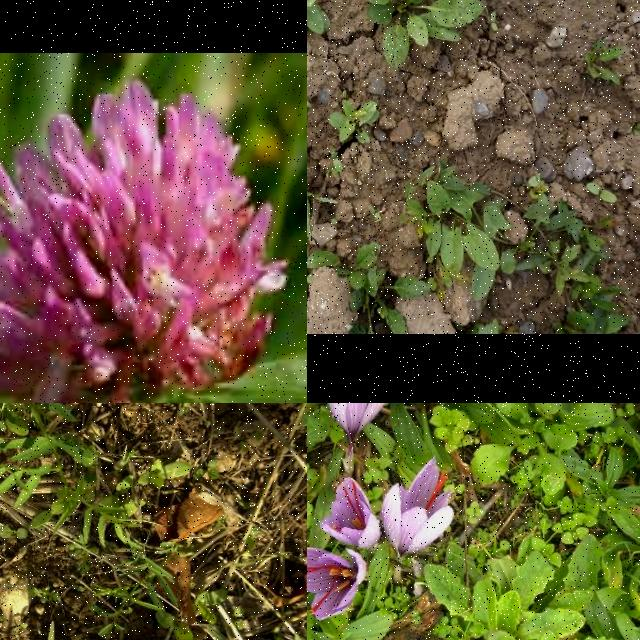flower: (381, 458, 455, 560), (307, 547, 368, 621), (321, 476, 381, 550), (326, 403, 396, 438)
